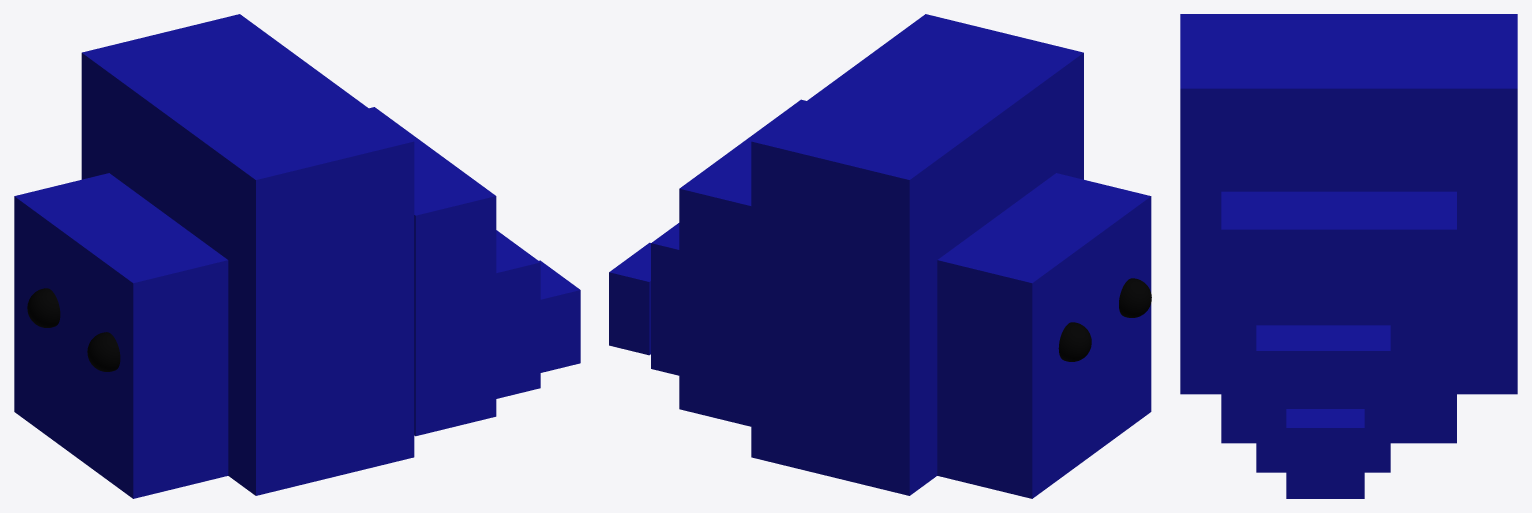
Rendered from Enemy01.FBX.
3 views of the same model, side by side, from view 1: azimuth 30°, elevation 25°; view 2: azimuth 150°, elevation 25°; view 3: azimuth 270°, elevation 25° (orthographic). The views are drawn at different scales.
Visible parts, largest first — view 1: Box001, Box005, Box002, Box003, Box004, Sphere001, Sphere002; view 2: Box001, Box005, Box002, Box003, Box004, Sphere001, Sphere002; view 3: Box001, Box002, Box003, Box004.
Part boxes in pixels (x1,y1,x2,y2): Box001: (81, 14, 414, 495); Box005: (14, 173, 228, 498); Box002: (369, 107, 496, 436); Box003: (496, 230, 540, 398); Box004: (539, 260, 580, 372); Sphere001: (27, 288, 60, 327); Sphere002: (87, 332, 120, 371); Box001: (751, 14, 1083, 495); Box005: (937, 173, 1151, 498); Box002: (679, 99, 806, 426); Box003: (651, 223, 679, 375); Box004: (609, 242, 650, 355); Sphere001: (1058, 322, 1091, 361); Sphere002: (1119, 278, 1151, 317); Box001: (1180, 14, 1517, 394); Box002: (1221, 191, 1456, 443); Box003: (1256, 325, 1390, 472); Box004: (1286, 409, 1364, 498).
Size of the model in its own units: 0.7144 by 0.4355 by 0.4355.
